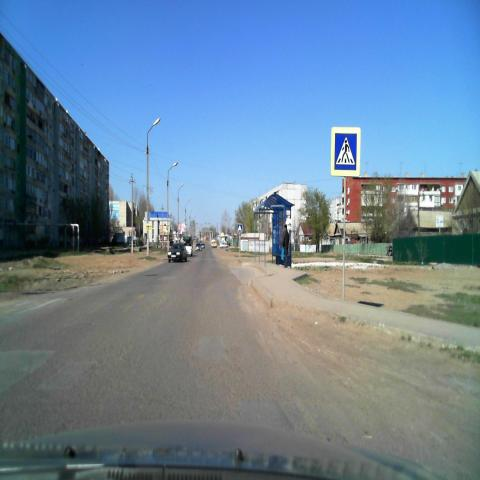5_19_1: (331, 126, 361, 179)
5_20: (237, 223, 243, 233)
